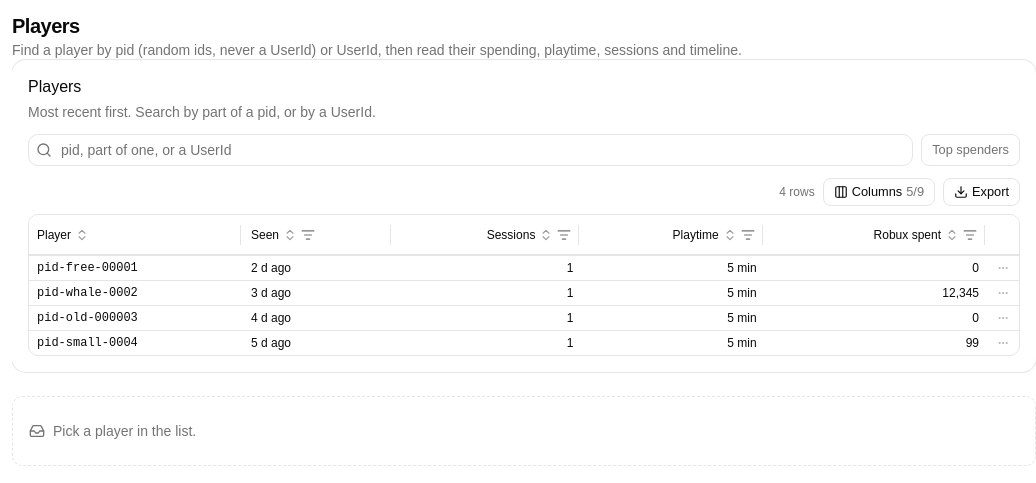
Test case: Players list: Robux spent › Top spenders asks the server for sort=robux
Click the button "Top spenders" at (971, 150), box [921, 134, 1020, 166]
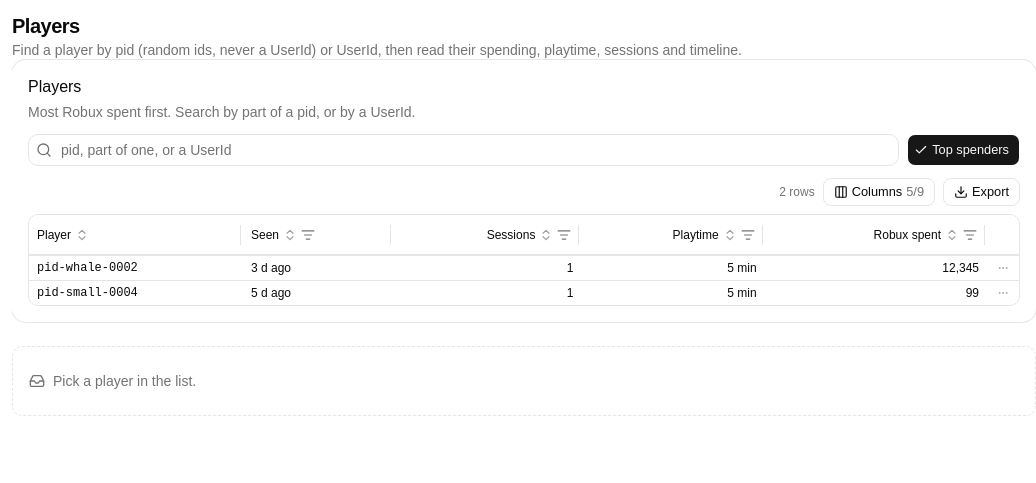
Expected: the text "Most Robux spent first" is shown, [28, 104, 416, 120]
